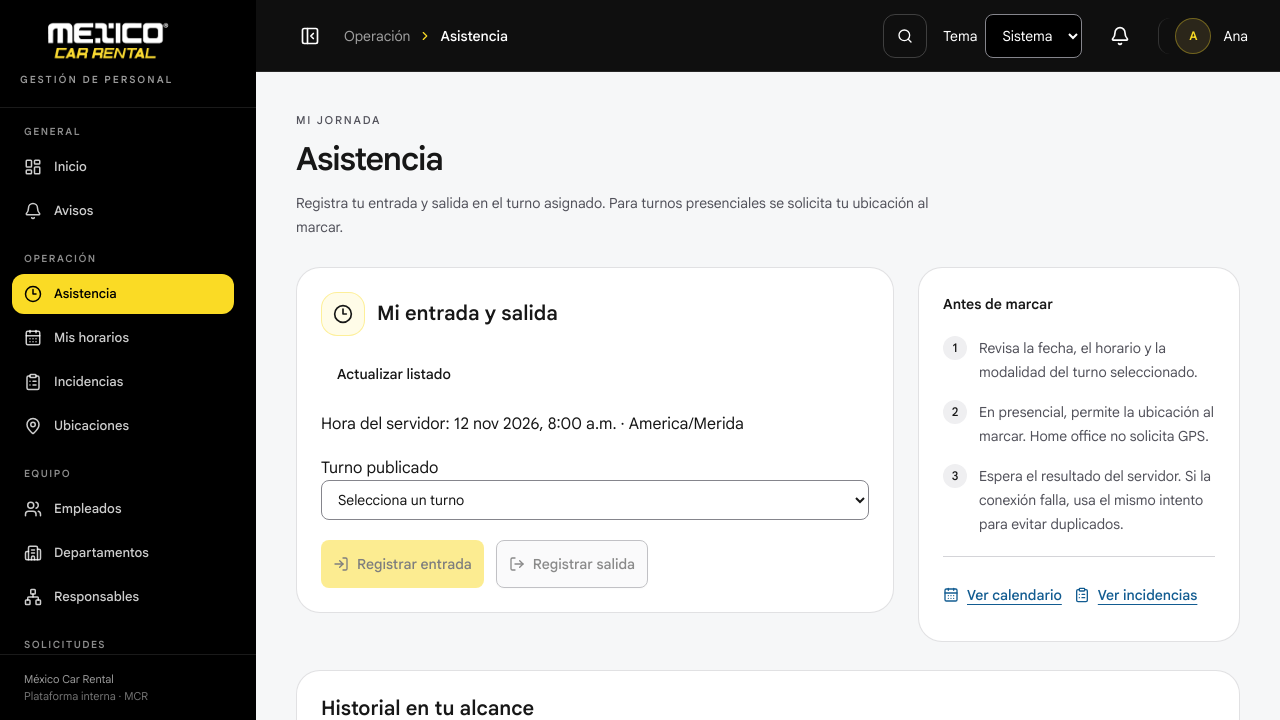
requires an explicit published slot and home office never requests GPS or sends device time
Expected: the button "Registrar entrada" is disabled, [321,540,484,588]
Select "2026-11-12 · 12 nov 2026, 8:00 a.m. · Home office" in the dropdown labelled "Turno publicado" at coordinates (595, 500), box [321,480,869,520]
(page scrolled)
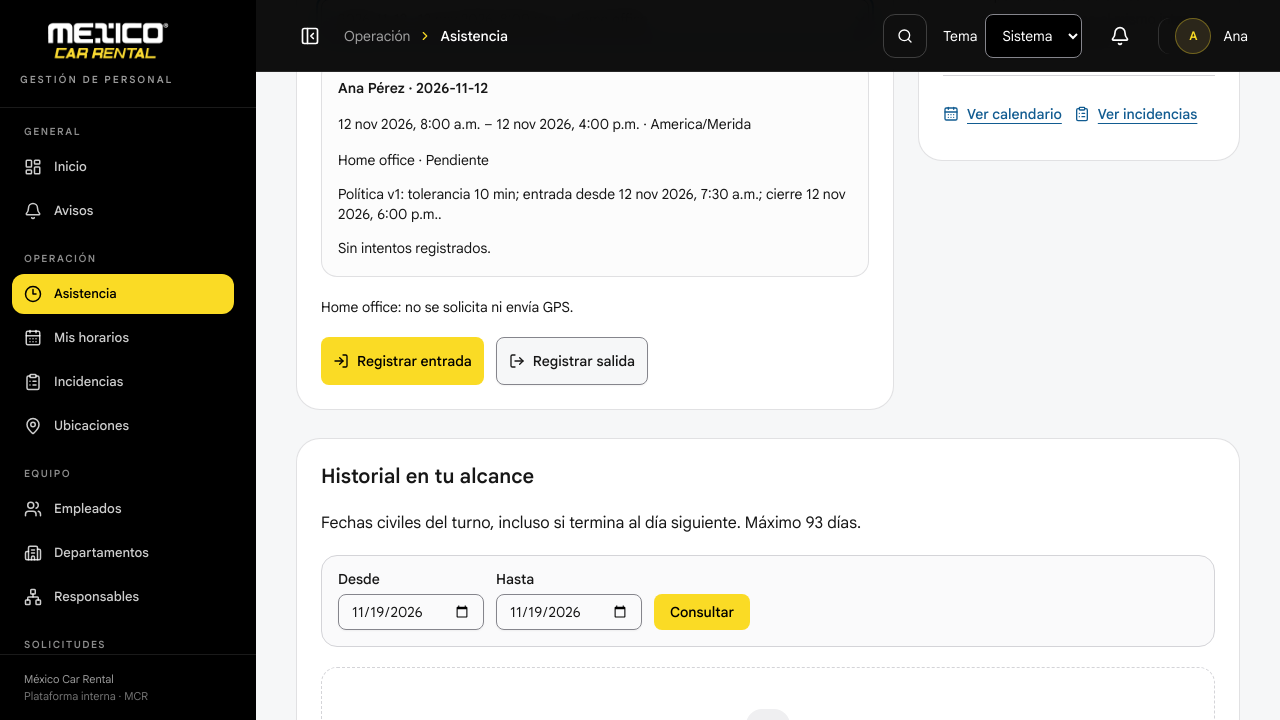
Click the button "Registrar entrada" at coordinates (402, 360), box [321,336,484,384]
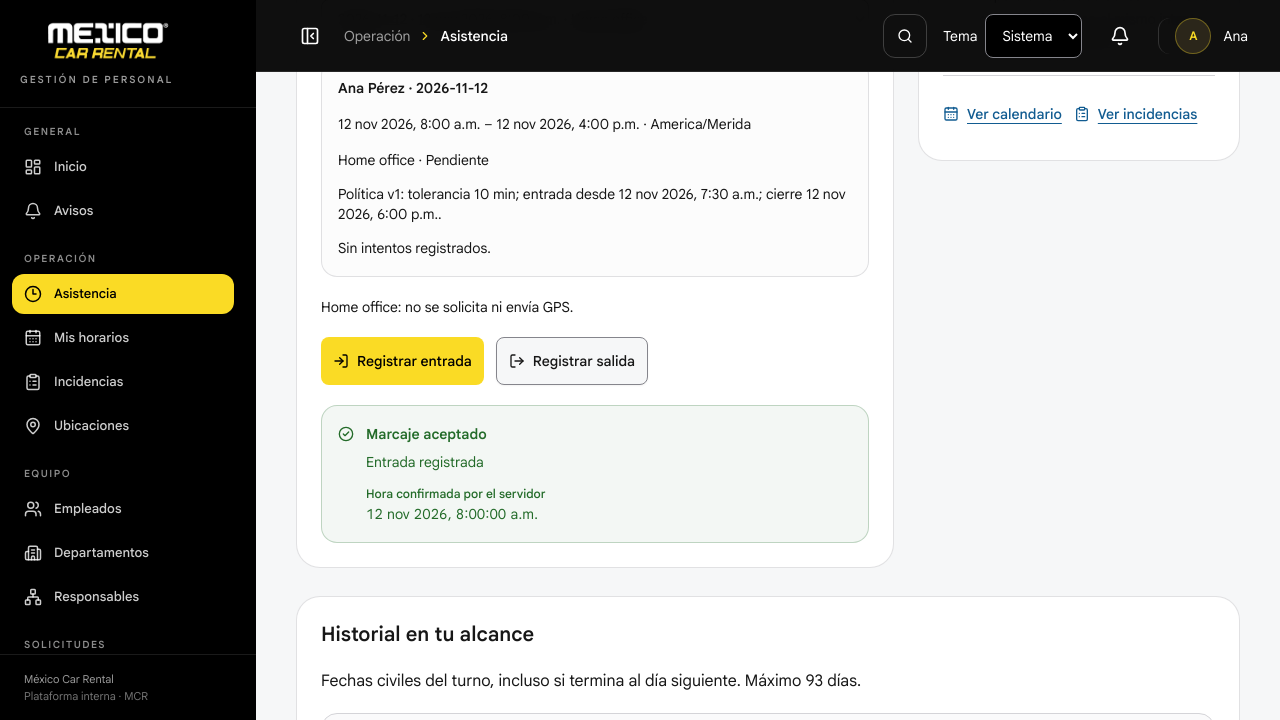
Expected: the text "Entrada registrada" is shown, [366,452,484,470]
Expected: the text "Hora confirmada por el servidor" is shown, [366,486,545,502]
Expected: the text "Marcaje aceptado" is shown, [366,424,487,442]
